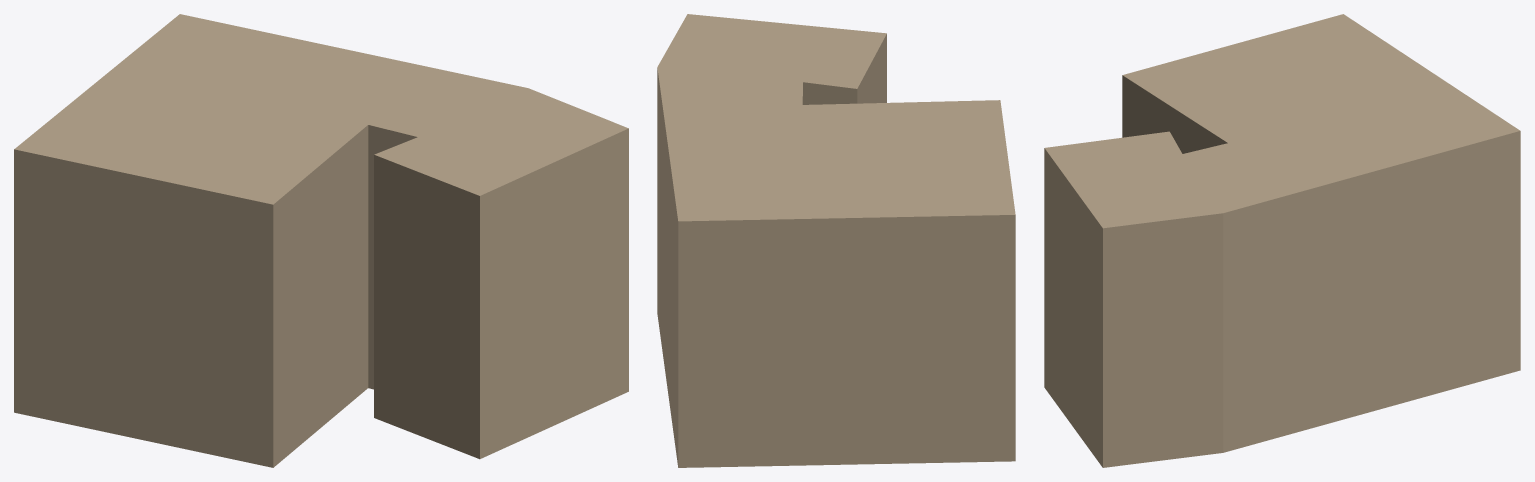
Rendered from bld_101979695.dae.
3 views of the same model, side by side, from view 1: azimuth 30°, elevation 25°; view 2: azimuth 150°, elevation 25°; view 3: azimuth 270°, elevation 25° (orthographic). The views are drawn at different scales.
Parts seen in each view (by area): view 1: bld_101979695; view 2: bld_101979695; view 3: bld_101979695.
Boxes of the visible parts, left/top/right/bottom form: bld_101979695: left=14, top=14, right=628, bottom=467; bld_101979695: left=657, top=14, right=1015, bottom=467; bld_101979695: left=1044, top=14, right=1520, bottom=467.
Bounding box in the file's own units: 15.34 × 14.4 × 8.
